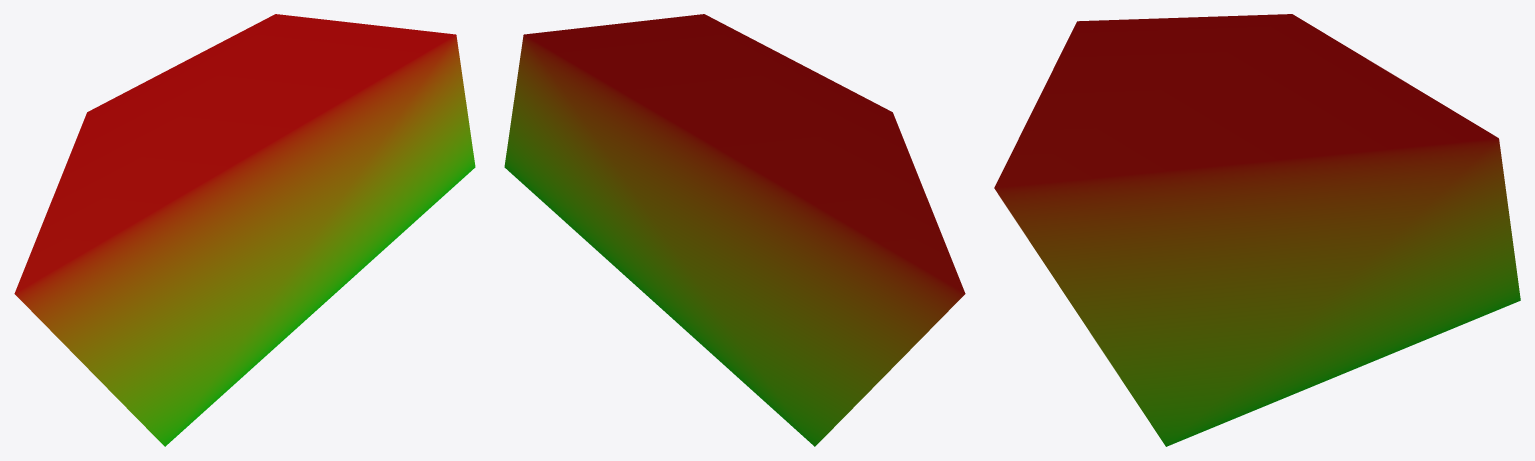
Rendered from Var6_LOD3.fbx.
3 renders of one model, left to right at view 1: azimuth 30°, elevation 25°; view 2: azimuth 150°, elevation 25°; view 3: azimuth 330°, elevation 25°, orthographic. The views are drawn at different scales.
Visible parts, largest first — view 1: Var6_LOD3; view 2: Var6_LOD3; view 3: Var6_LOD3.
Boxes of the visible parts, bbox=[...] form: Var6_LOD3: bbox=[14, 14, 475, 446]; Var6_LOD3: bbox=[504, 14, 965, 446]; Var6_LOD3: bbox=[994, 14, 1520, 446].
Bounding box in the file's own units: 35.75 × 30.08 × 2.28e-06.
